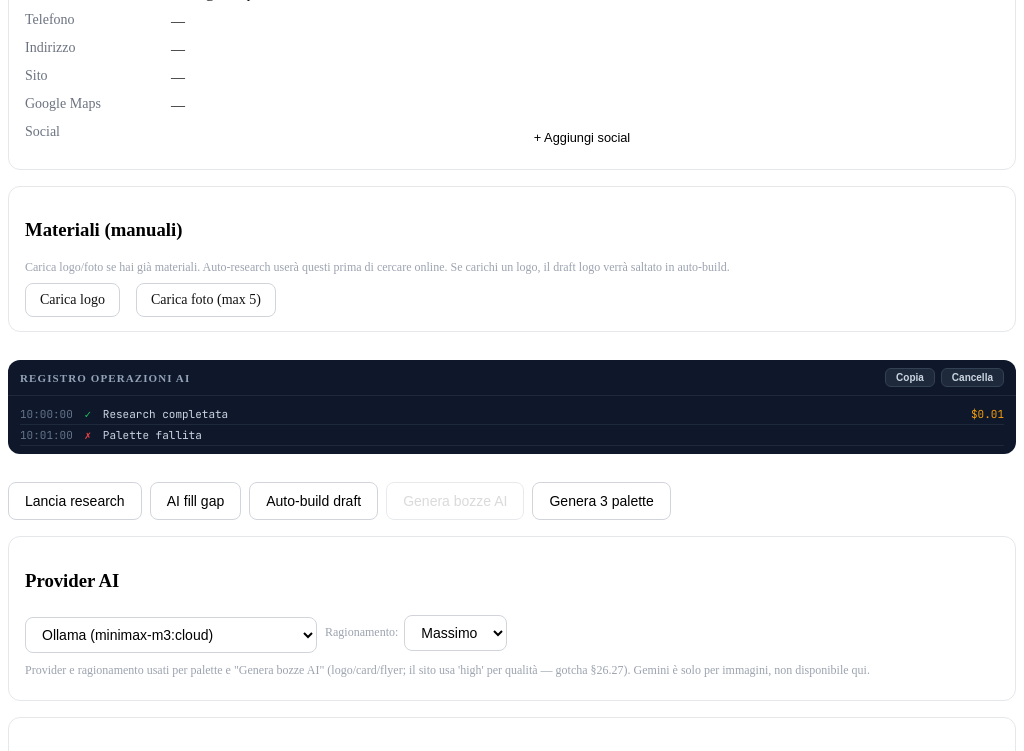
TB-027 CustomerDetail › click Copia → clipboard riceve log formattato (ts, icon, msg, detail indentato)
This screenshot has width=1024, height=751.
(page scrolled)
Click the button with test id "crm-log-copy". click: (910, 378)
box: [885,368,935,387]
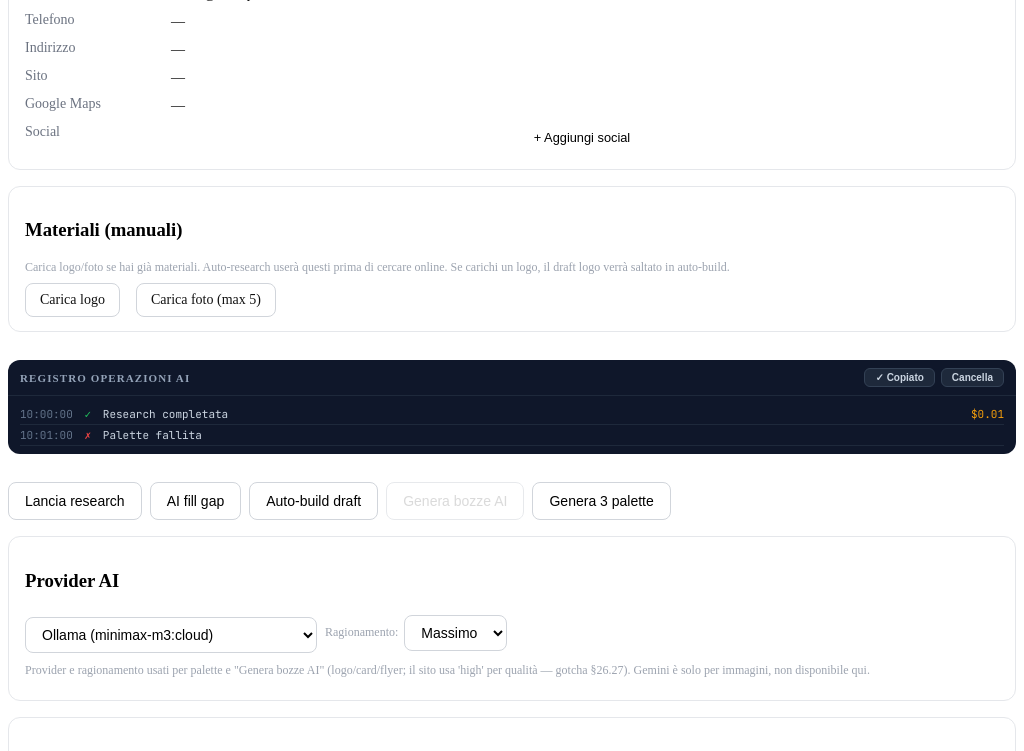
Expected: the button with test id "crm-log-copy" reads "✓ Copiato", [864,368,935,387]
